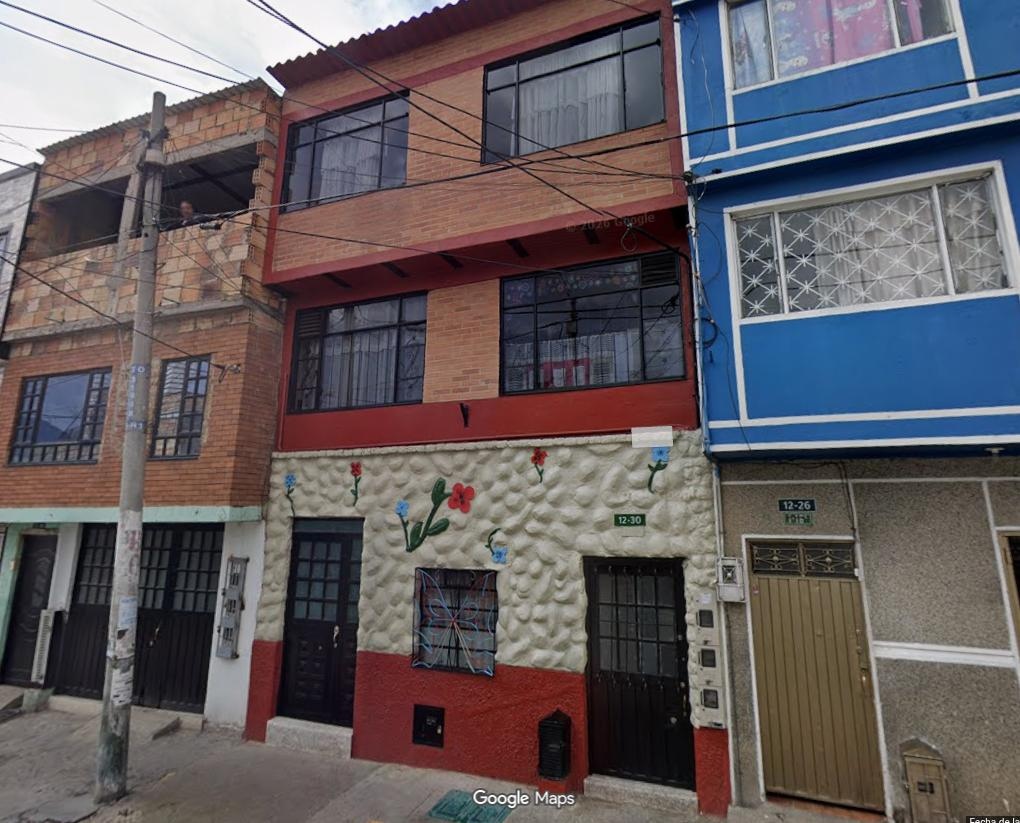casa: (248, 0, 730, 820), (666, 0, 1019, 822), (0, 79, 283, 724)
poste: (94, 92, 165, 802)
